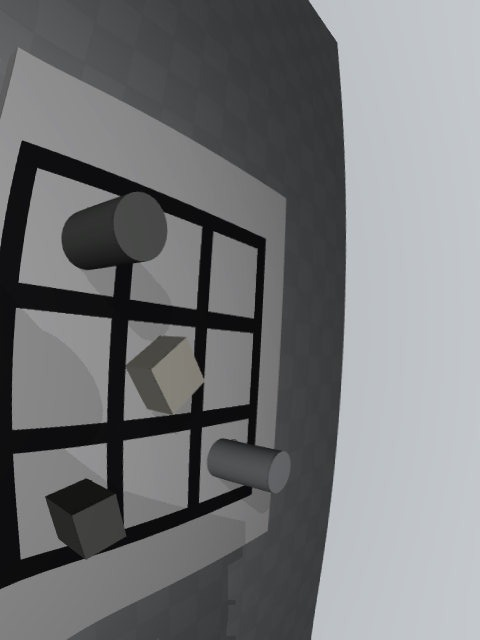can: (207, 438, 291, 494)
cube: (45, 479, 126, 560)
cylinder: (61, 192, 168, 270)
foam: (125, 336, 204, 415)
